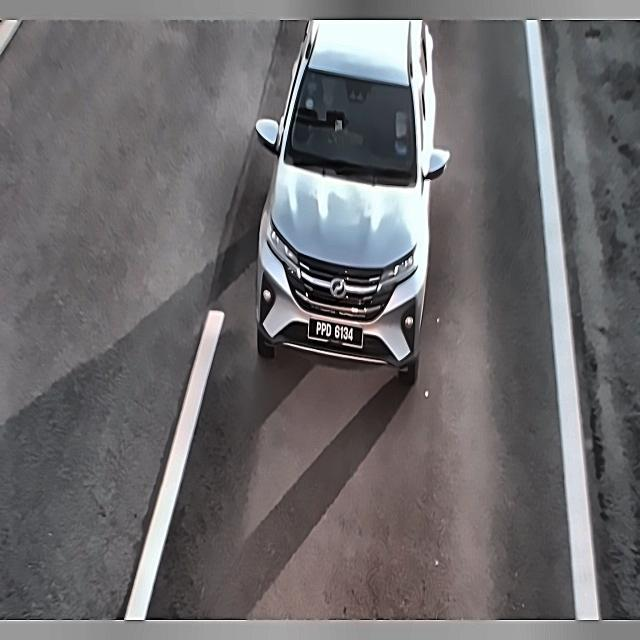car: (300, 308, 370, 352)
